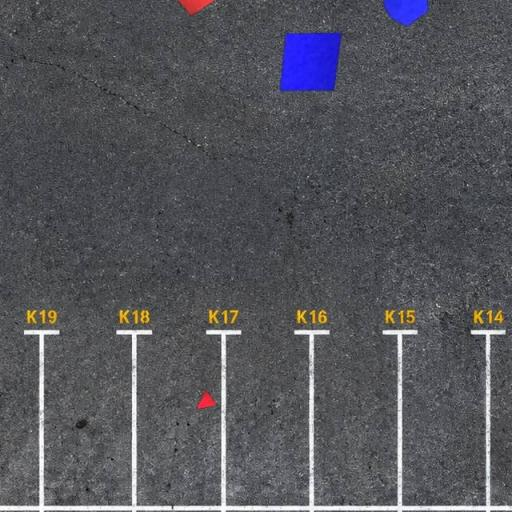BLUE_SQUARE: (279, 32, 342, 92)
RED_SQUARE: (174, 0, 214, 17)
